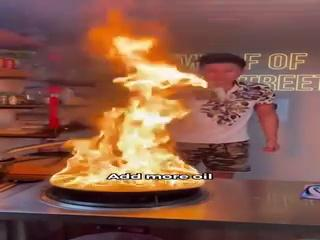Fire: (42, 64, 205, 194)
